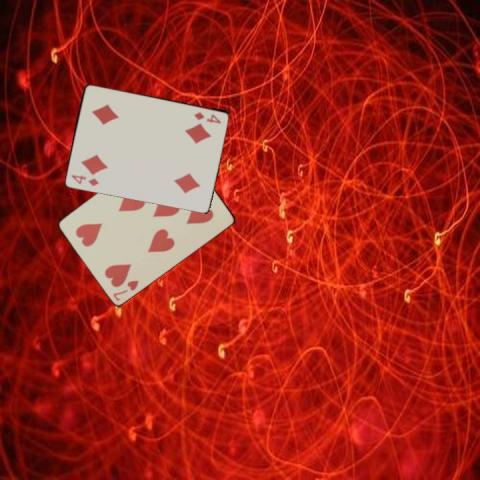4d: (191, 110, 222, 126), (68, 172, 100, 187)
7h: (110, 277, 141, 302)
